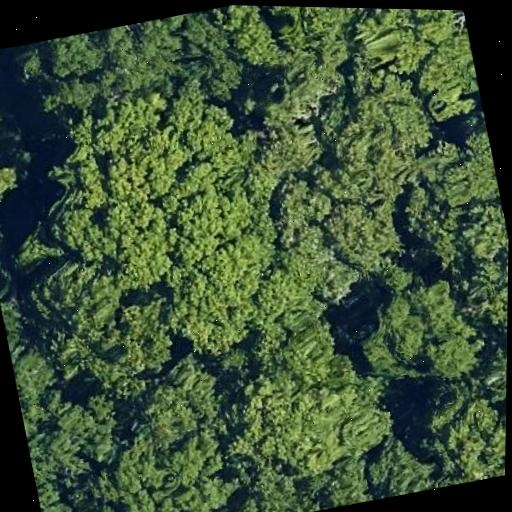tree-top: (29, 77, 269, 304), (266, 155, 416, 322), (221, 347, 385, 487), (351, 263, 489, 403), (316, 76, 439, 197), (159, 242, 273, 365), (17, 247, 140, 351), (126, 353, 234, 459), (415, 377, 507, 489), (87, 11, 198, 103), (112, 429, 231, 512), (227, 447, 371, 512), (255, 6, 383, 77), (40, 385, 132, 482), (186, 4, 276, 102), (349, 8, 458, 86), (93, 292, 181, 387), (243, 102, 333, 192), (386, 172, 465, 270), (411, 18, 483, 119), (1, 310, 65, 420), (447, 234, 509, 334), (357, 428, 440, 502), (33, 26, 118, 90), (444, 108, 500, 202), (0, 56, 31, 220), (216, 5, 281, 80), (0, 268, 35, 374), (26, 441, 71, 512), (482, 315, 507, 418), (0, 39, 50, 89), (0, 223, 14, 313), (105, 506, 186, 512), (442, 10, 465, 22)
